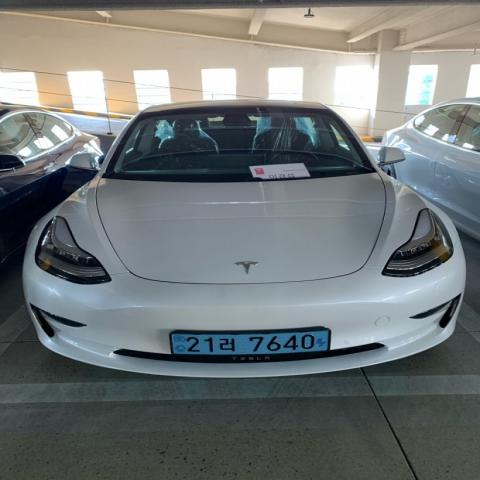LP: (163, 320, 341, 368)
